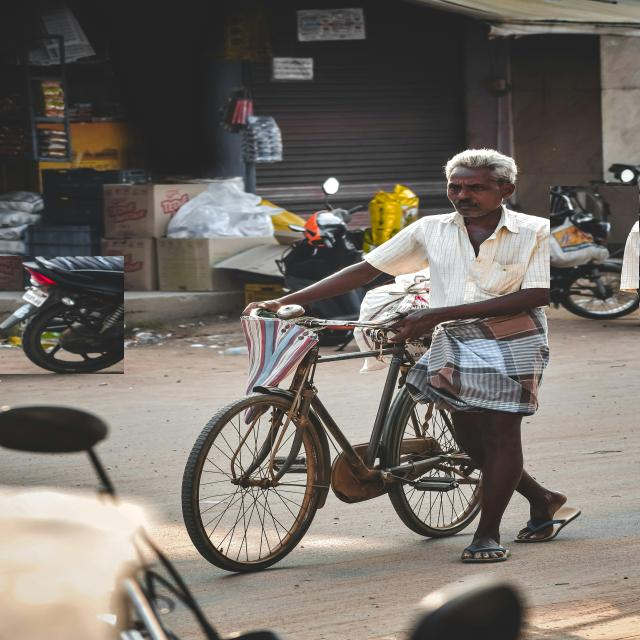bicycle: (182, 305, 481, 572)
motorcycle: (0, 256, 124, 374), (550, 186, 640, 320), (278, 178, 362, 290)
